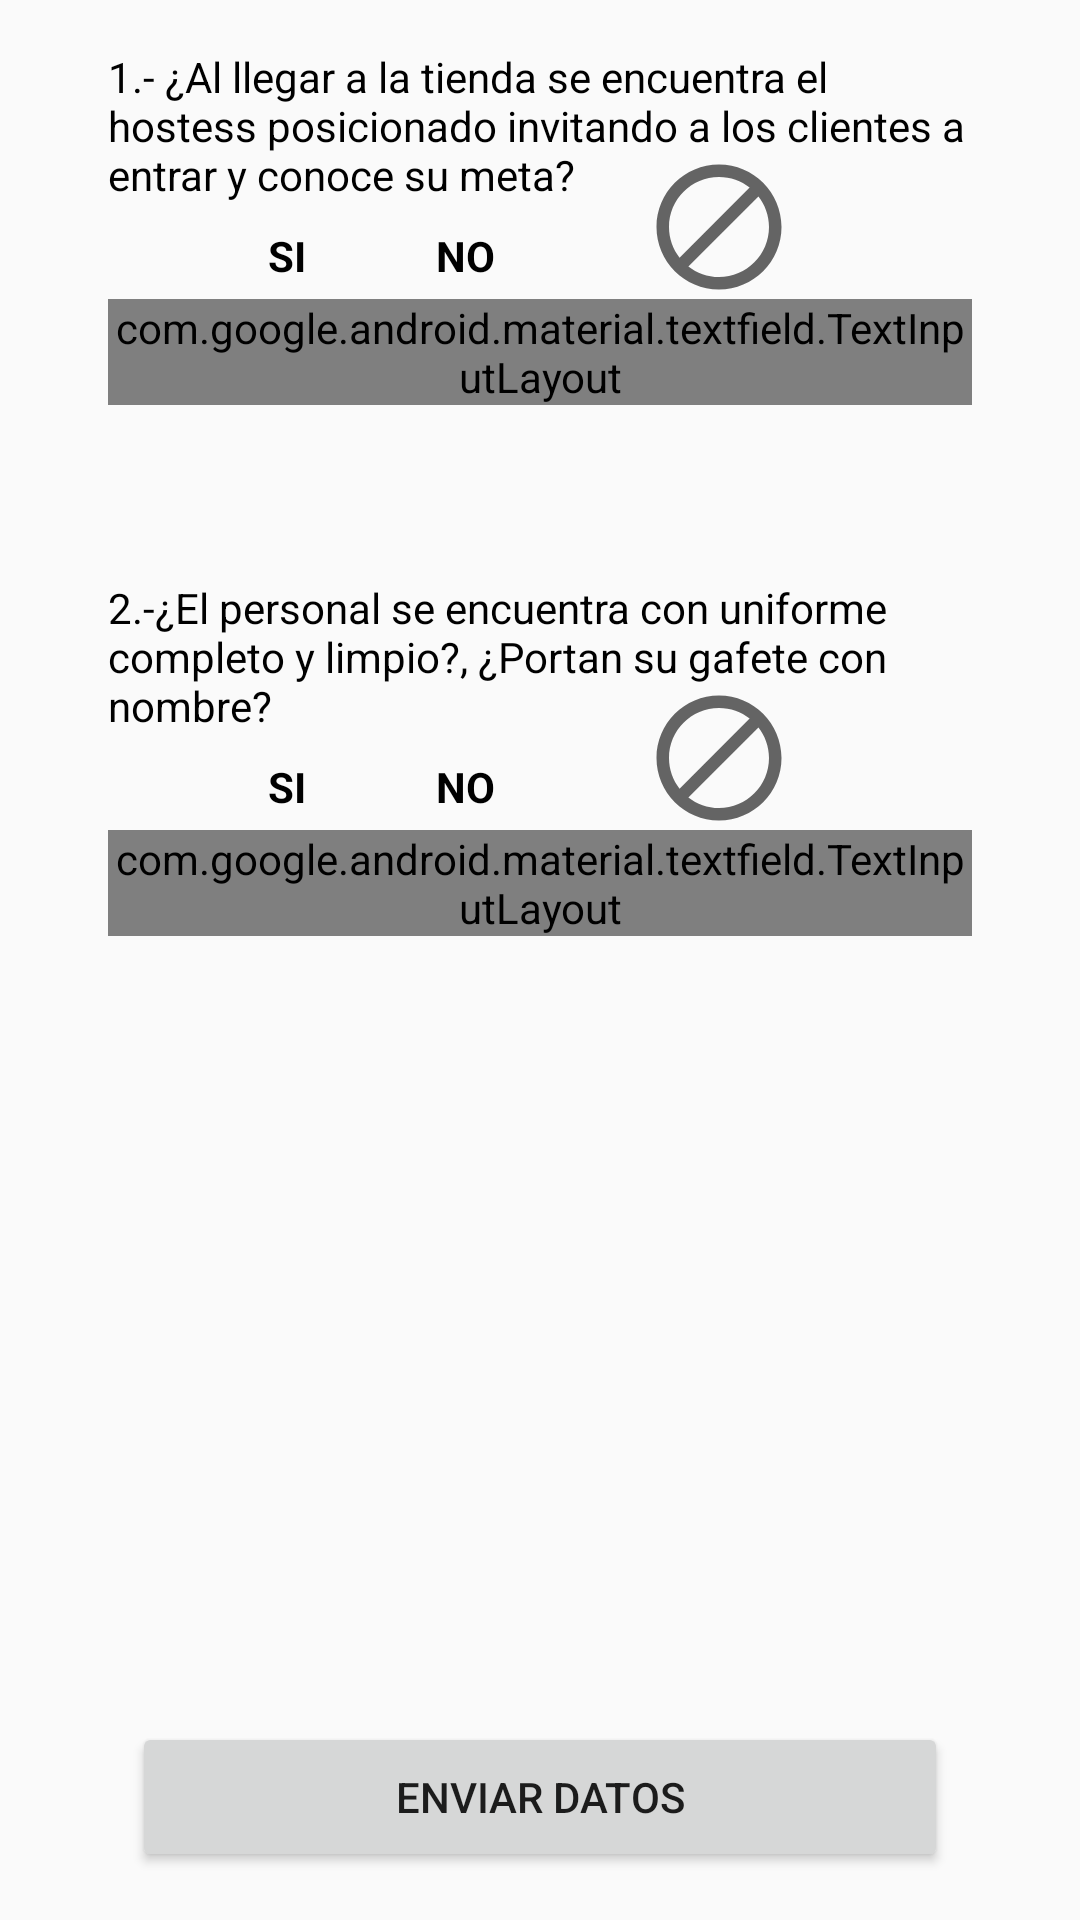

Where icons sit on this 1080 × 1920 app screen, as (x1, y1, x2, y2):
block: (656, 164, 782, 290), (656, 695, 782, 821)
